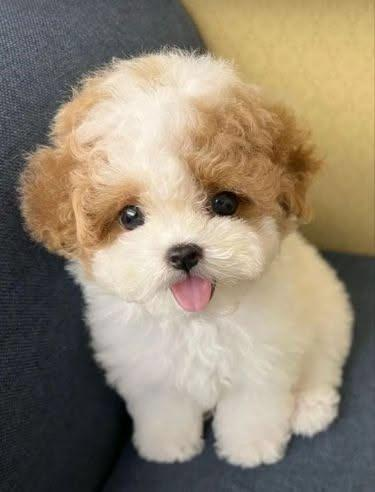puppy-dog: (17, 45, 357, 468)
